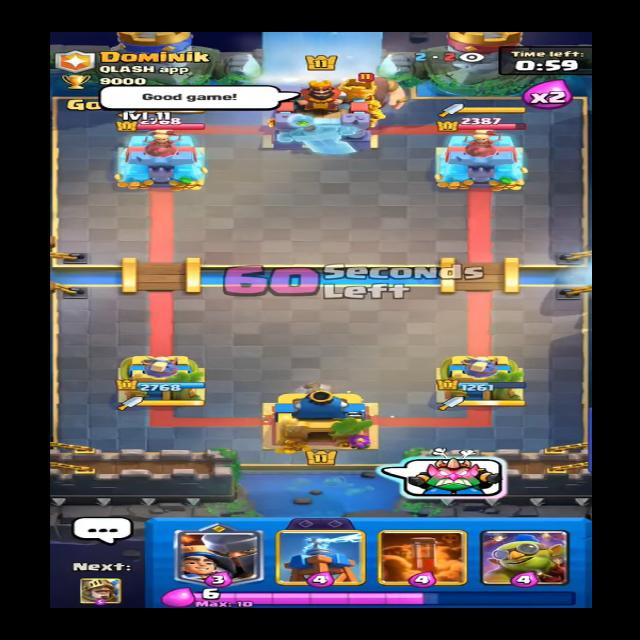giant: (314, 72, 419, 116)
